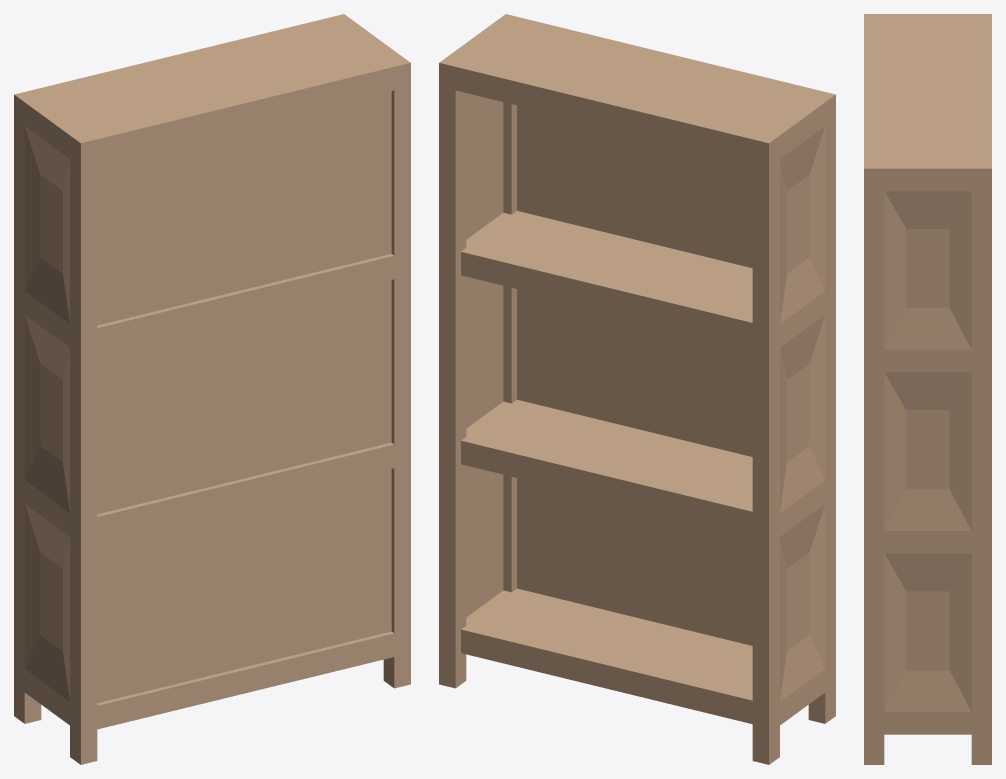
Rendered from bookcase.glb.
The picture shows the model from 3 angles, left to right: view 1: azimuth 30°, elevation 25°; view 2: azimuth 150°, elevation 25°; view 3: azimuth 270°, elevation 25°; orthographic projection. The views are drawn at different scales.
Visible parts, largest first — view 1: bookcase; view 2: bookcase; view 3: bookcase.
Part boxes in pixels (x1,y1,x2,y2): bookcase: (14,14,410,764); bookcase: (439,14,835,764); bookcase: (864,14,991,764).
Bounding box in the file's own units: 1 × 1.8 × 0.35.
